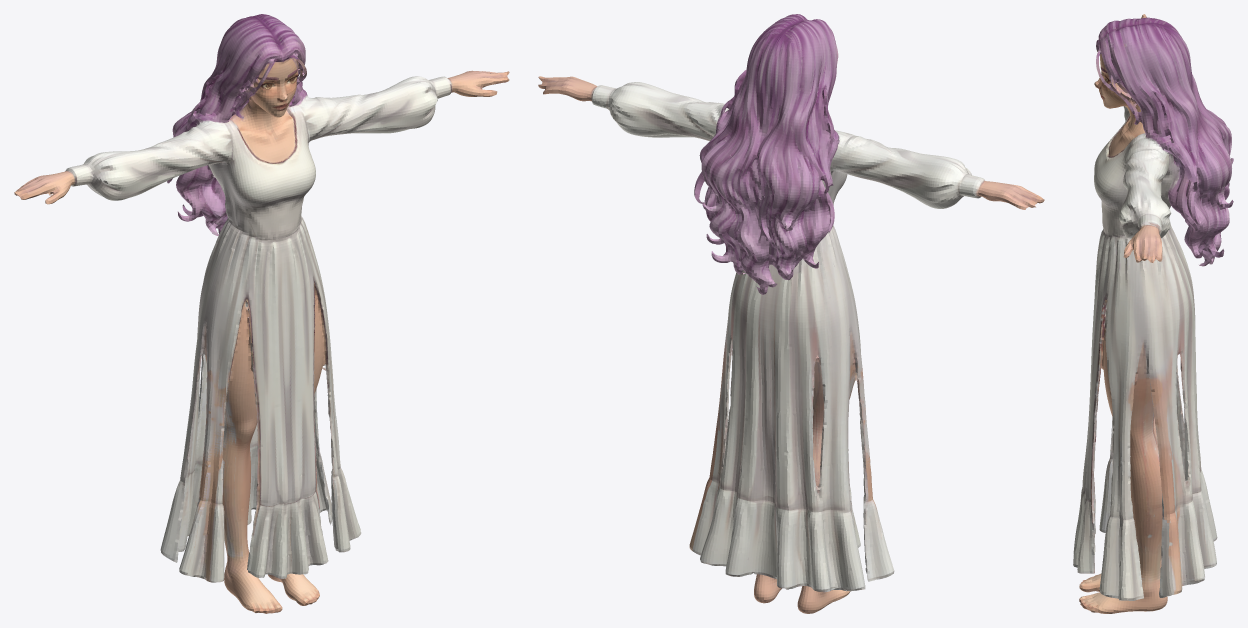
Rendered from female-FOR-MIXAMO.fbx.
The picture shows the model from 3 angles, left to right: view 1: azimuth 30°, elevation 25°; view 2: azimuth 150°, elevation 25°; view 3: azimuth 270°, elevation 25°; orthographic projection. The views are drawn at different scales.
Visible parts, largest first — view 1: Mesh_0; view 2: Mesh_0; view 3: Mesh_0.
Boxes of the visible parts, left/top/right/bottom form: Mesh_0: left=14, top=14, right=509, bottom=613; Mesh_0: left=538, top=14, right=1044, bottom=613; Mesh_0: left=1073, top=14, right=1233, bottom=613.
Size of the model in its own units: 1.74 by 1.91 by 0.483.
Materials: 1 (1 with a texture image).
